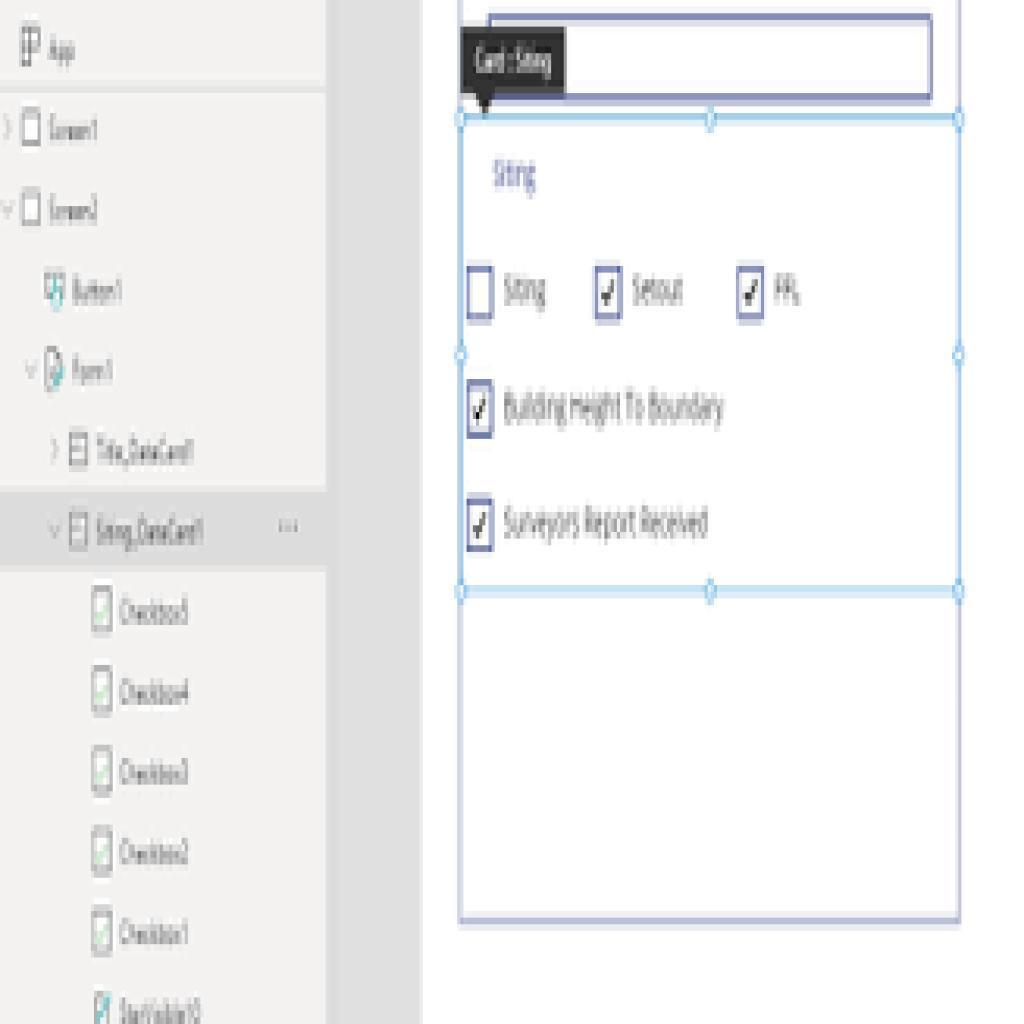checkbox: (466, 381, 494, 437), (736, 269, 765, 317), (597, 269, 624, 320), (468, 503, 496, 552), (468, 270, 494, 316), (92, 911, 113, 955), (94, 669, 114, 713), (93, 748, 112, 794), (94, 587, 113, 631), (95, 831, 113, 875), (23, 111, 42, 145), (71, 513, 90, 547), (22, 190, 42, 222), (70, 432, 88, 461)
icon: (44, 268, 70, 319), (42, 345, 66, 396)
